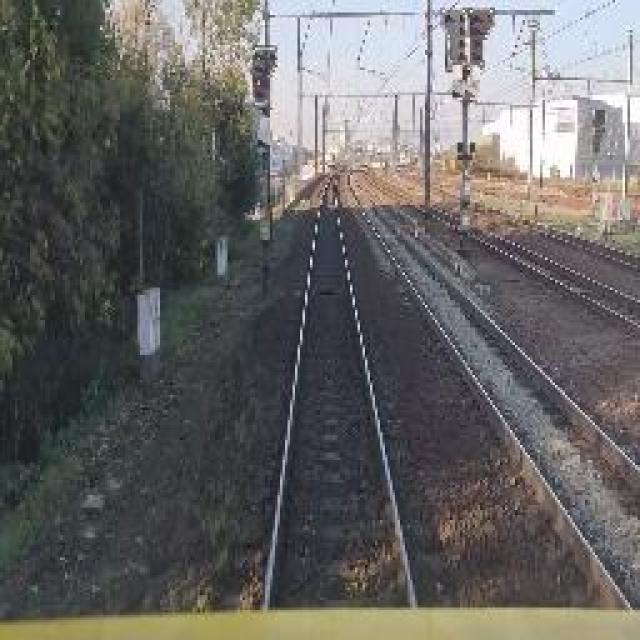rail: (203, 166, 443, 609)
